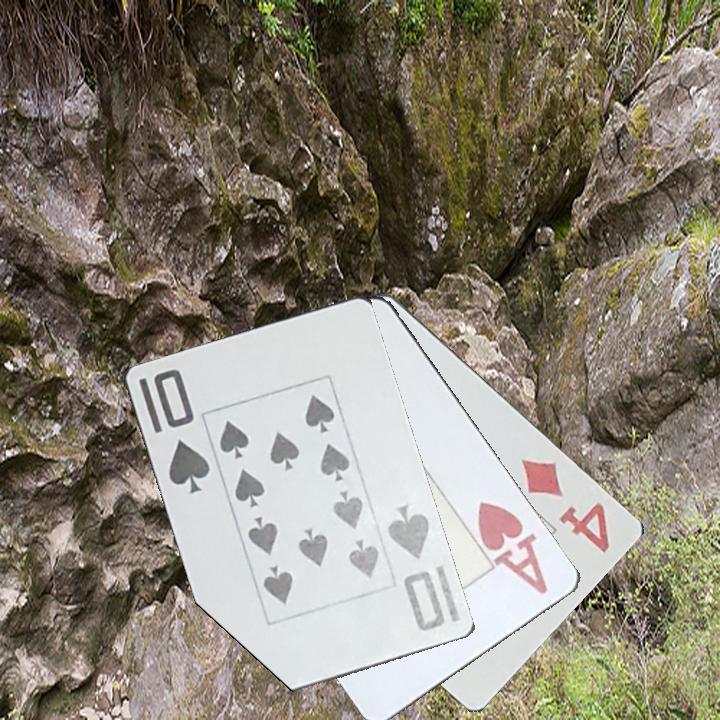4d: (518, 455, 615, 556)
Ah: (472, 495, 551, 597)
Ts: (135, 365, 214, 497), (384, 501, 449, 635)
